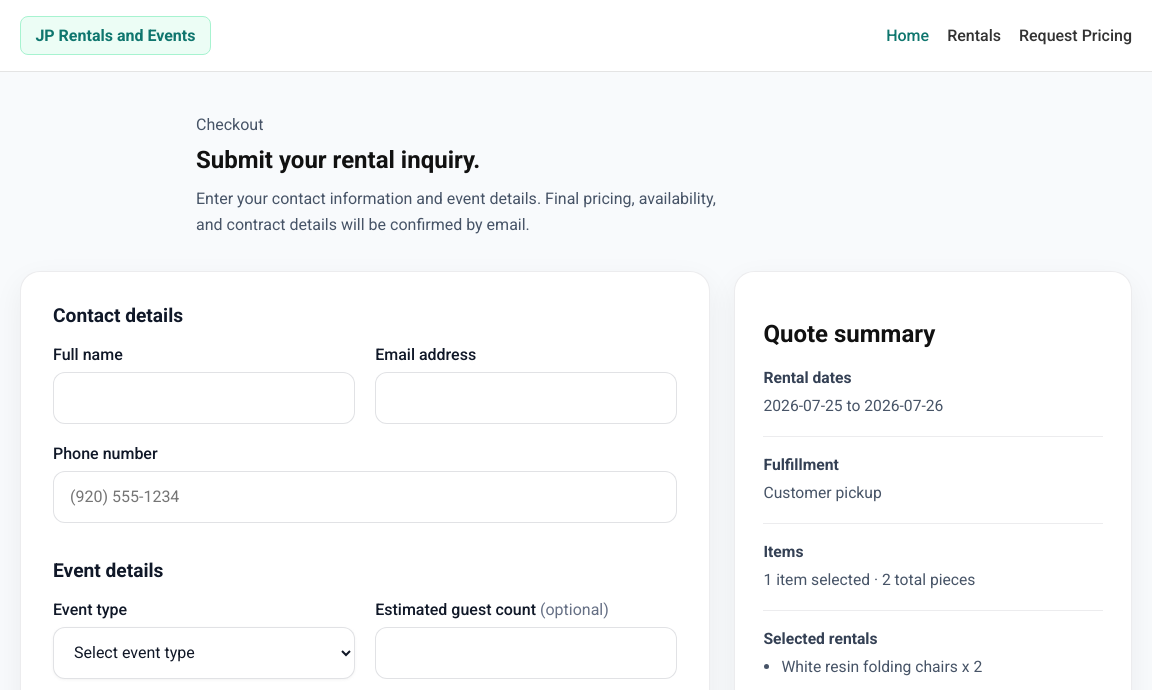
Test: CheckoutPage › shows an error for an invalid email address
Type "Jordan Smith" into the field labelled "Full name". click: (204, 398)
box: [53, 372, 355, 424]
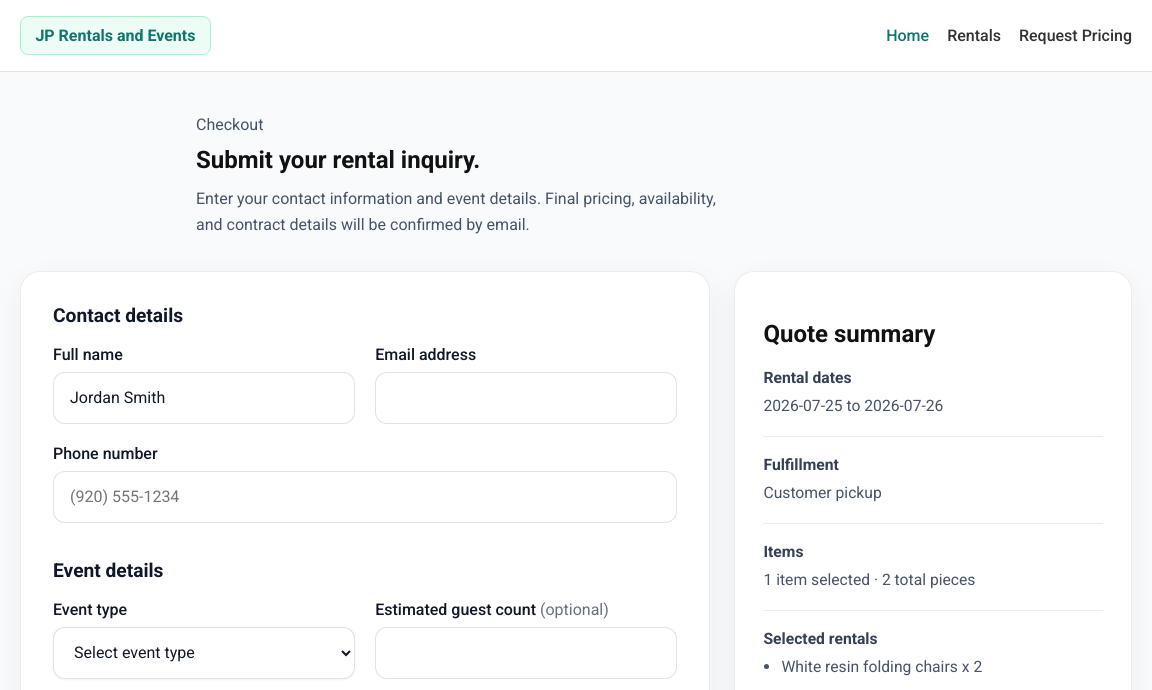
Type "not-an-email" into the field labelled "Email address". click: (526, 398)
box: [375, 372, 677, 424]
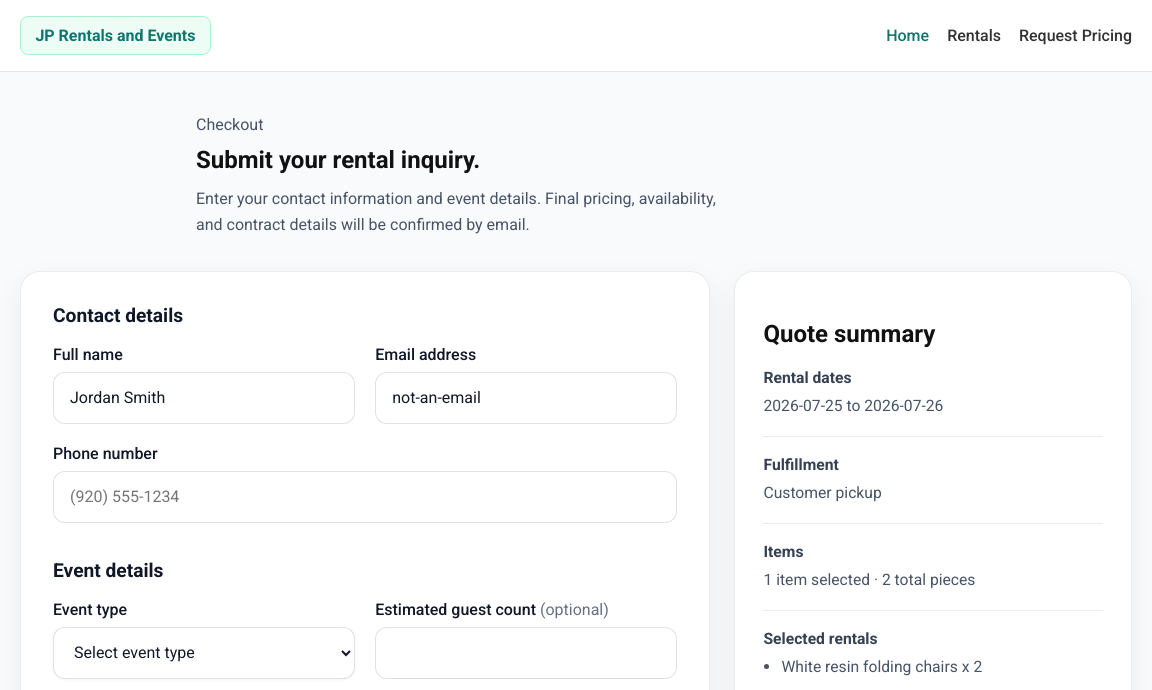
Type "9205551234" into the field labelled "Phone number". click: (365, 497)
box: [53, 471, 678, 523]
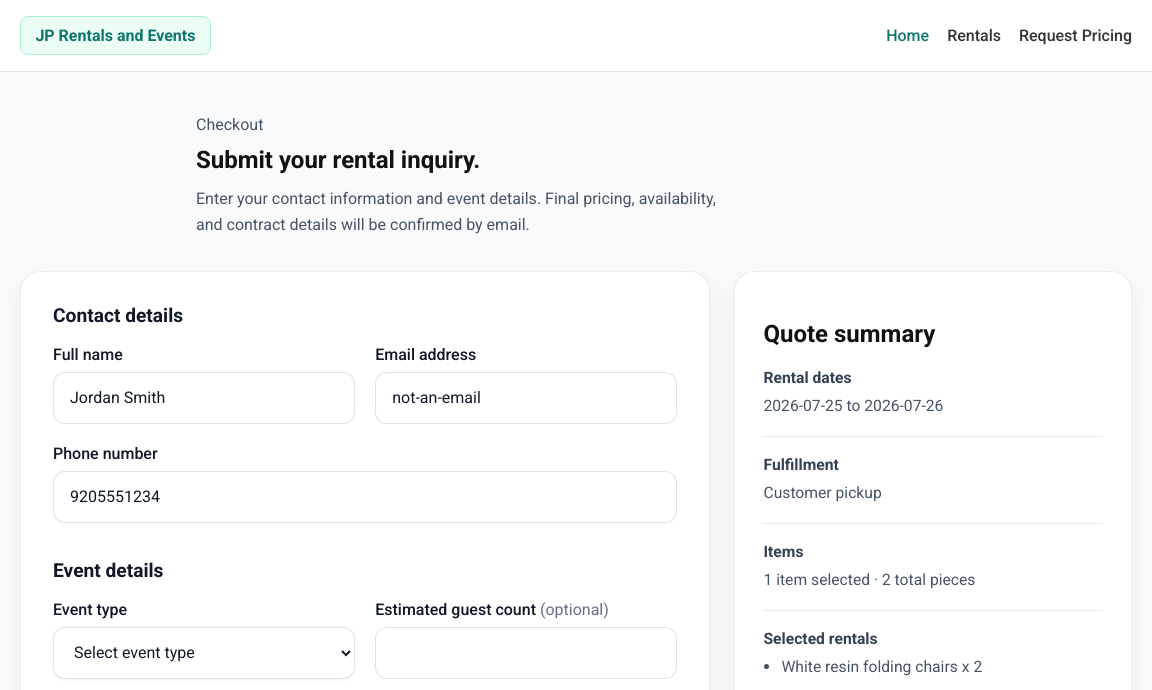
Select "Birthday party" in the dropdown labelled "Event type". click: (204, 653)
box: [53, 627, 355, 679]
(page scrolled)
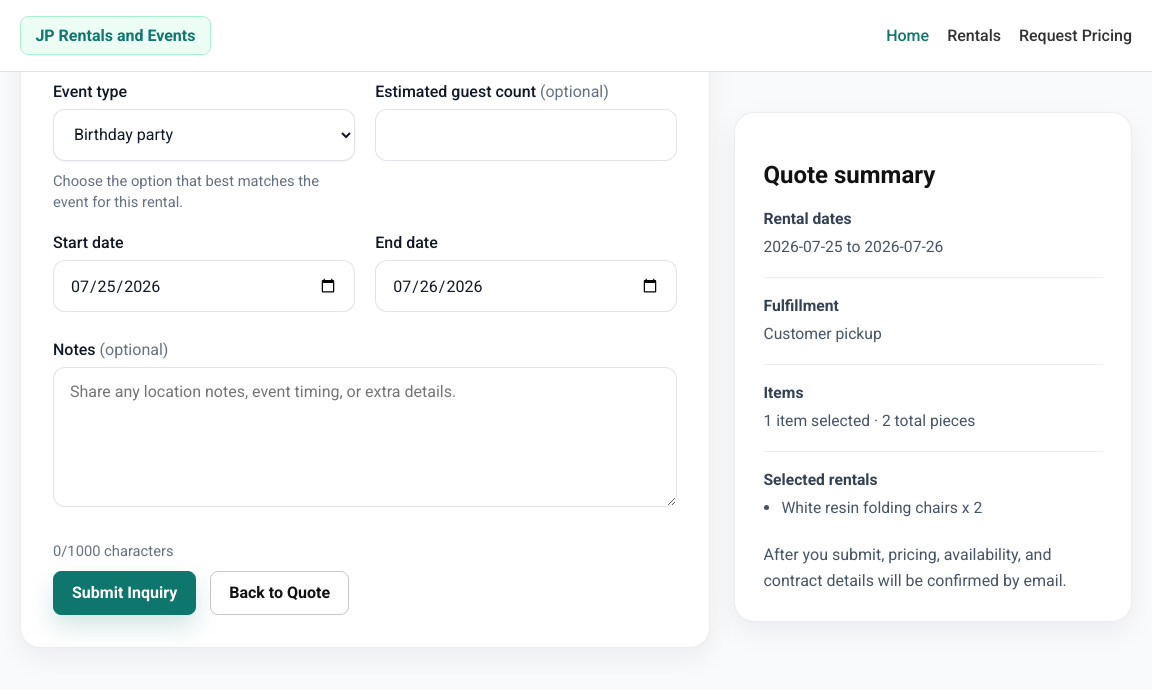
Click the button "Submit Inquiry". click: (125, 593)
box: [53, 571, 196, 615]
(page scrolled)
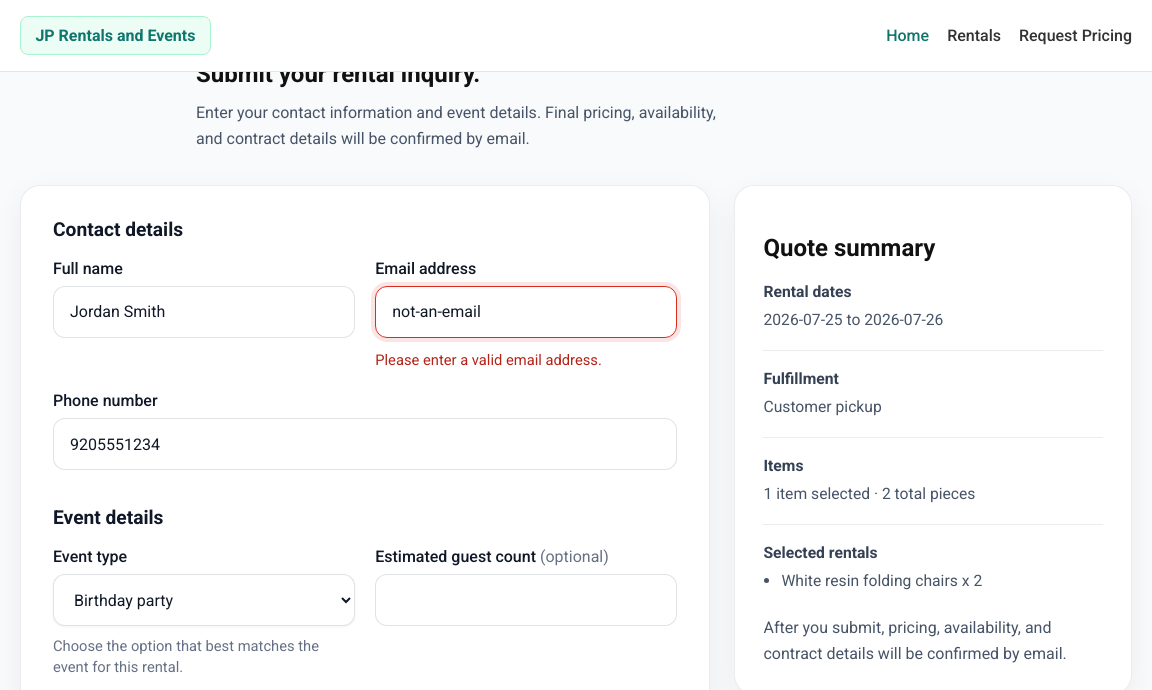
Now the text "Please enter a valid email address." is shown, box [375, 351, 602, 369]
